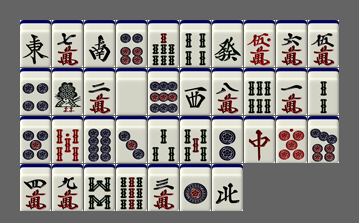0m: (244, 20, 275, 67)
0p: (276, 116, 307, 163)
0s: (52, 116, 83, 163)
1m: (276, 68, 307, 115)
1p: (180, 164, 211, 211)
1s: (52, 68, 83, 115)
1z: (20, 20, 51, 67)
2m: (84, 68, 115, 115)
2p: (212, 116, 243, 163)
2s: (308, 68, 339, 115)
2z: (84, 20, 115, 67)
3m: (148, 164, 179, 211)
3p: (116, 116, 147, 163)
3s: (148, 116, 179, 163)
3z: (180, 68, 211, 115)
4m: (20, 164, 51, 211)
4p: (20, 68, 51, 115)
4s: (180, 20, 211, 67)
4z: (212, 164, 243, 211)
5m: (308, 20, 339, 67)
5p: (20, 116, 51, 163)
5s: (180, 116, 211, 163)
5z: (116, 68, 147, 115)
6m: (276, 20, 307, 67)
6p: (116, 20, 147, 67)
6s: (244, 68, 275, 115)
6z: (212, 20, 243, 67)
7m: (52, 20, 83, 67)
7p: (308, 116, 339, 163)
7s: (148, 20, 179, 67)
7z: (244, 116, 275, 163)
8m: (212, 68, 243, 115)
8p: (84, 116, 115, 163)
8s: (84, 164, 115, 211)
9m: (52, 164, 83, 211)
9p: (148, 68, 179, 115)
9s: (116, 164, 147, 211)
